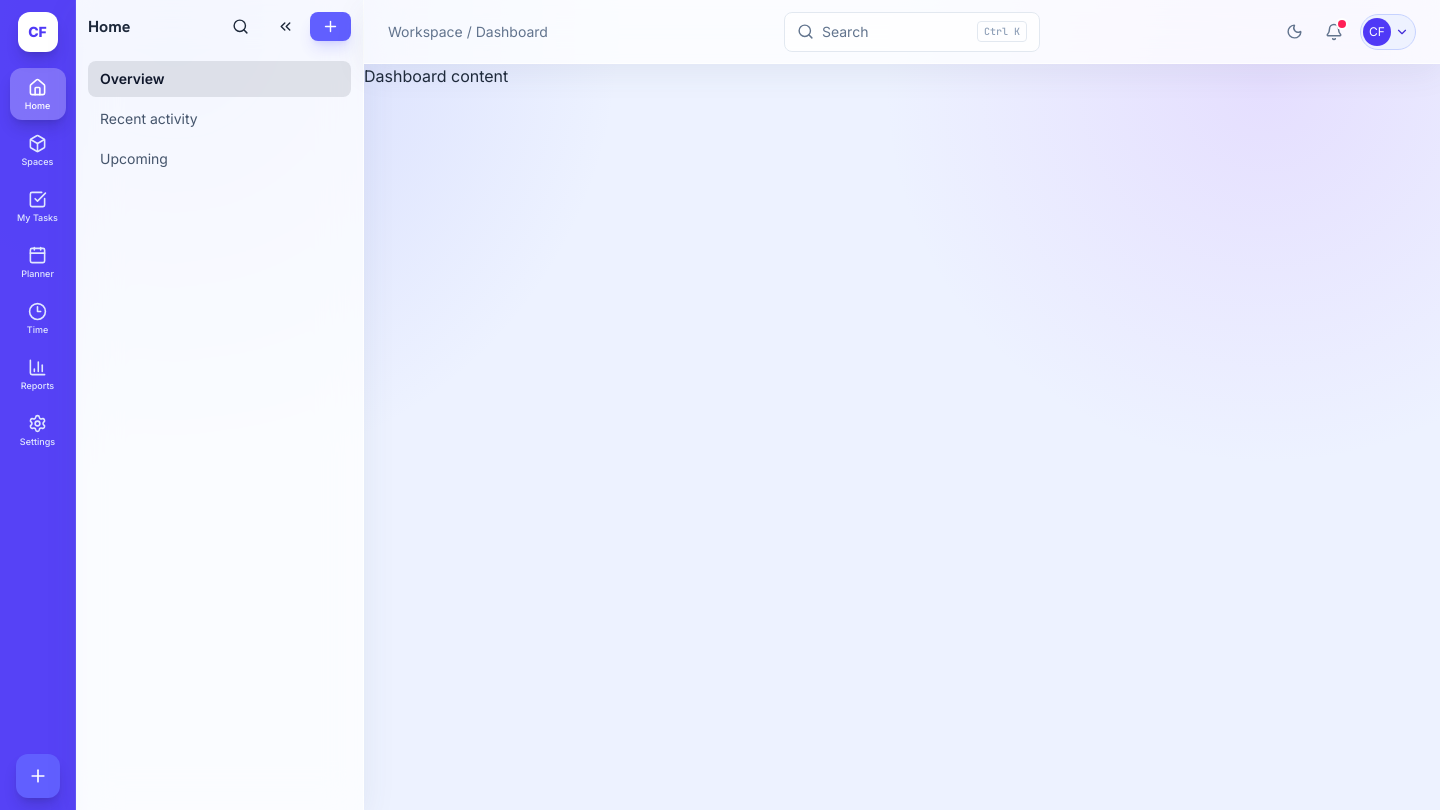
AppHeader › reopens a collapsed panel only when a global menu item is clicked
This screenshot has width=1440, height=810.
Click the button named "Collapse panel" at (286, 26), box [265,12,306,41]
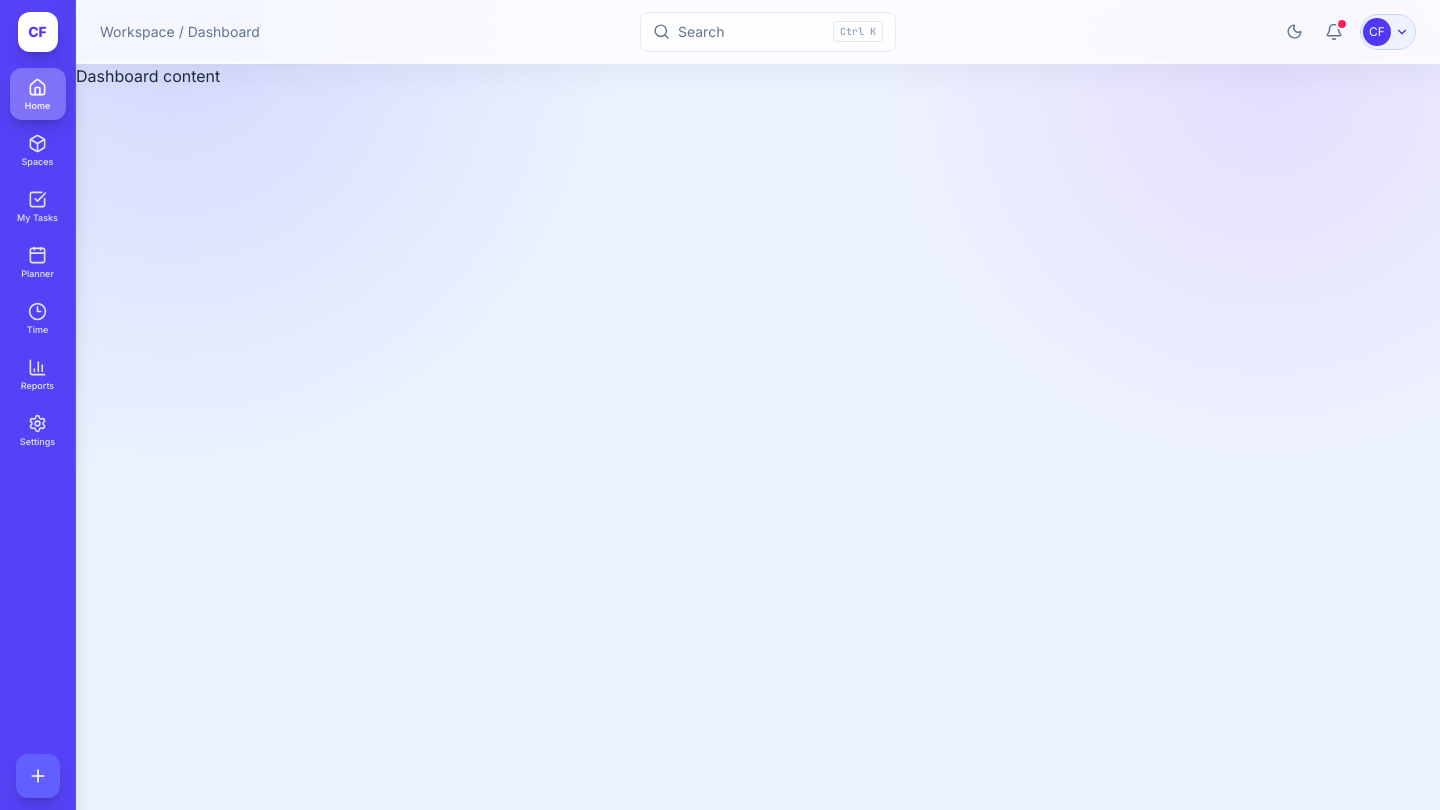
Click the link "Planner" at (38, 262), box [21,246,54,279]
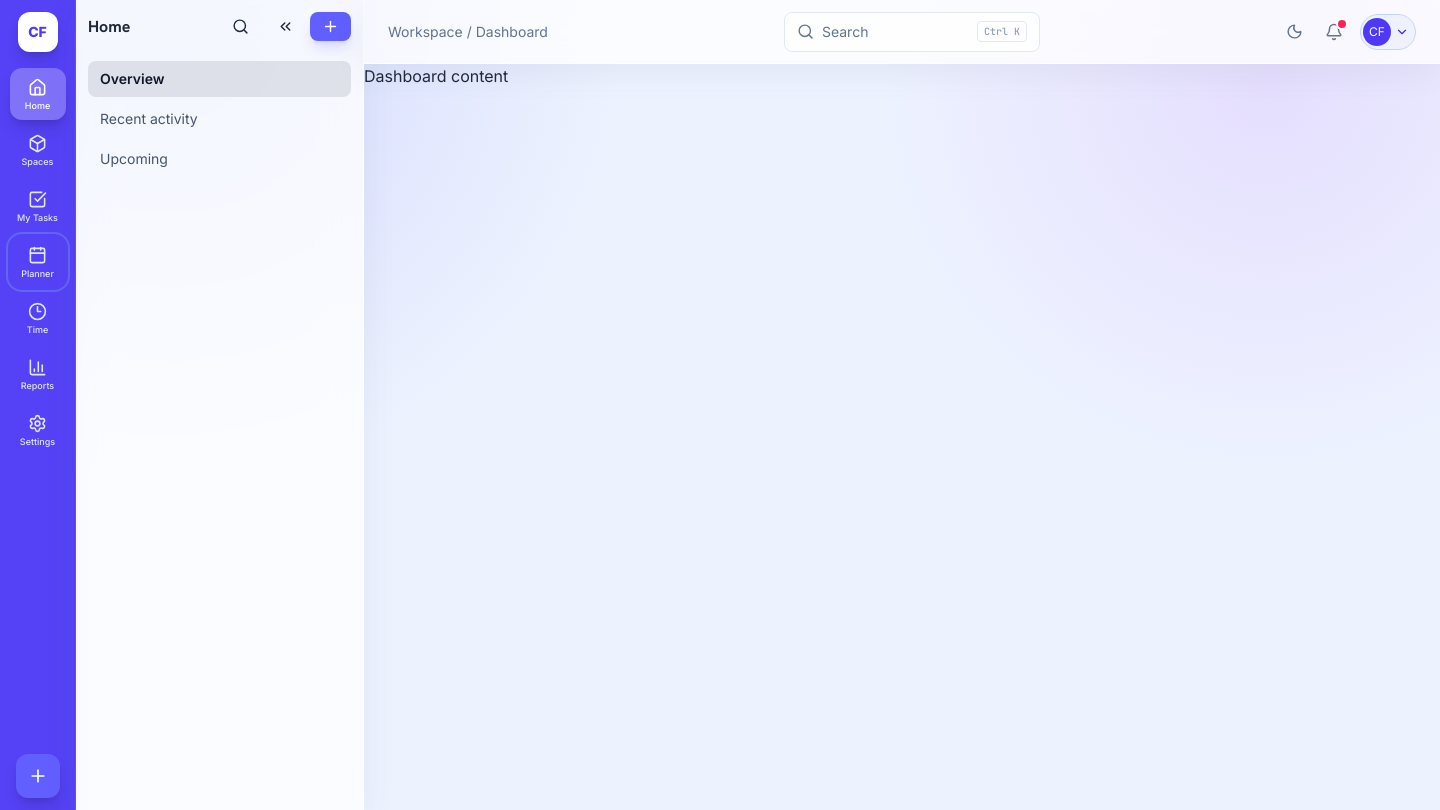
Expected: the element named "Home navigation" is shown, [76,0,364,809]
